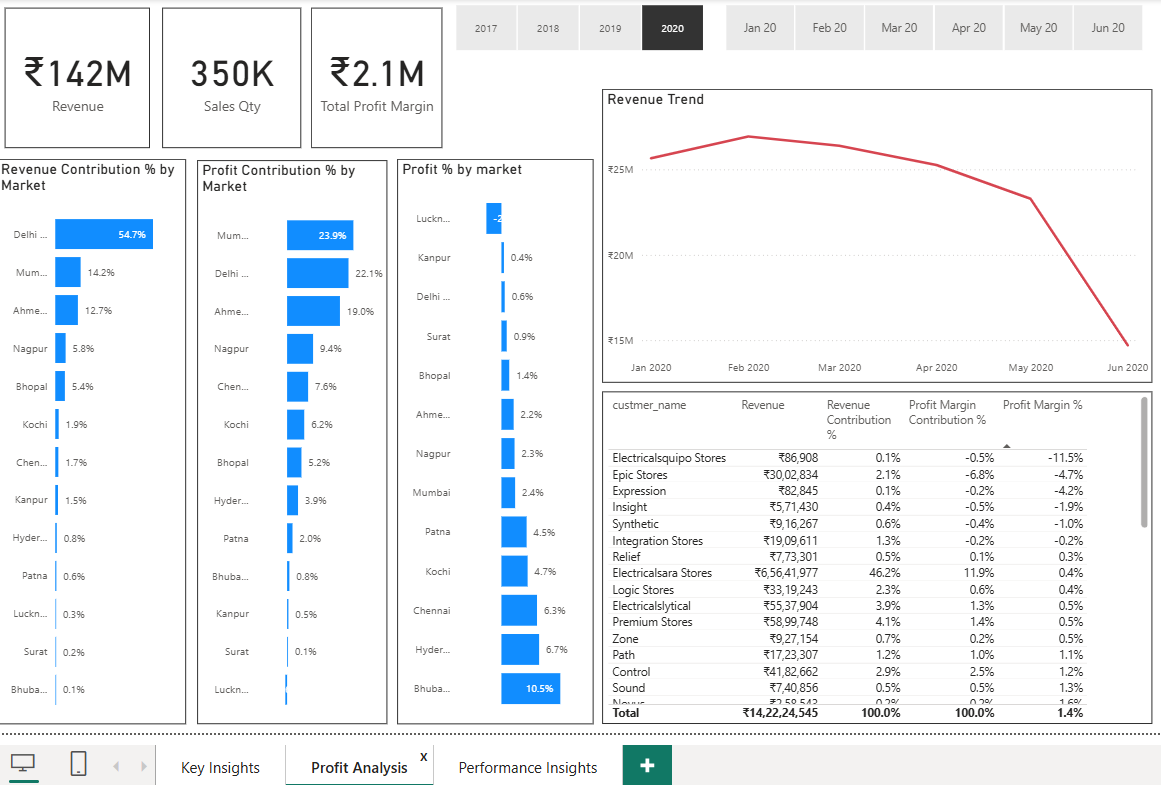

This screenshot's page, from the dashboard's own definition file:
{"tool":"powerbi","page":{"name":"Profit Analysis","canvas":[1350,850],"ordinal":1},"visuals":[{"type":"card","fields":{"Values":["BaseMeasures (2).Revenue"]},"box":[10.1,10.1,167.9,162.1],"z":0},{"type":"card","fields":{"Values":["BaseMeasures (2).Sales Qty"]},"box":[192.5,10.1,160.6,162.1],"z":1000},{"type":"barChart","title":"Profit % by market","fields":{"Y":["BaseMeasures (2).Profit Margin %"],"Category":["sales markets.markets_name"]},"box":[464.6,185.2,227.2,654.2],"z":2000},{"type":"barChart","title":"Profit Contribution % by Market","fields":{"Y":["BaseMeasures (2).Profit Margin Contribution %"],"Category":["sales markets.markets_name"]},"box":[233,186.7,220,652.7],"z":3000},{"type":"slicer","fields":{"Values":["sales date.year"]},"box":[506.5,0,335.8,66.6],"z":4000},{"type":"slicer","fields":{"Values":["sales date.cy_date"]},"box":[818.6,0,531.7,66.5],"z":5000},{"type":"tableEx","title":"Top 5 Customers","fields":{"Values":["sales customers.custmer_name","BaseMeasures (2).Revenue","BaseMeasures (2).Revenue Contribution %","BaseMeasures (2).Profit Margin Contribution %","BaseMeasures (2).Profit Margin %"]},"box":[701.9,454.4,636.8,385],"z":6000},{"type":"lineChart","title":"Revenue Trend","fields":{"Y":["BaseMeasures (2).Revenue"],"Category":["sales date.cy_date"]},"box":[701.9,104.2,636.8,340.1],"z":7000},{"type":"card","fields":{"Values":["BaseMeasures (2).Total Profit Margin"]},"box":[364.7,10.1,152,162.1],"z":8000},{"type":"barChart","title":"Revenue Contribution % by Market","fields":{"Y":["BaseMeasures (2).Revenue Contribution %"],"Category":["sales markets.markets_name"]},"box":[0,185.8,219.9,654.5],"z":9000}]}

Visuals, with their boxes on the page's 1350x850 design canvas (x1, y1, x2, y2). These are canvas units, not pixel positions in the 1161x785 screenshot, which may show the page scaled, cropped or inside an application window:
card - BaseMeasures (2).Revenue: [10,10,178,172]
card - BaseMeasures (2).Sales Qty: [192,10,353,172]
"Profit % by market" barChart: [465,185,692,839]
"Profit Contribution % by Market" barChart: [233,187,453,839]
slicer - sales date.year: [506,0,842,67]
slicer - sales date.cy_date: [819,0,1350,66]
"Top 5 Customers" tableEx: [702,454,1339,839]
"Revenue Trend" lineChart: [702,104,1339,444]
card - BaseMeasures (2).Total Profit Margin: [365,10,517,172]
"Revenue Contribution % by Market" barChart: [0,186,220,840]
